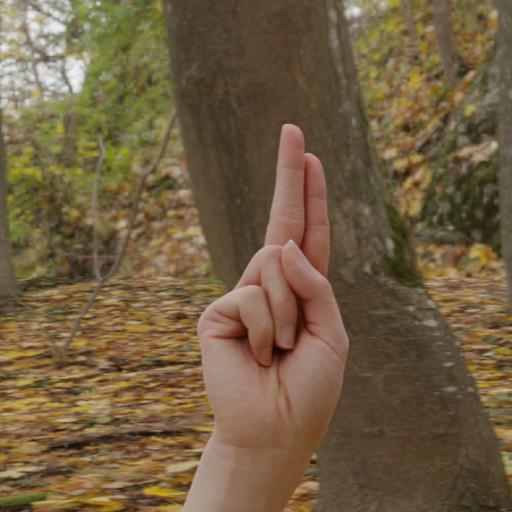U: (171, 111, 369, 512)
